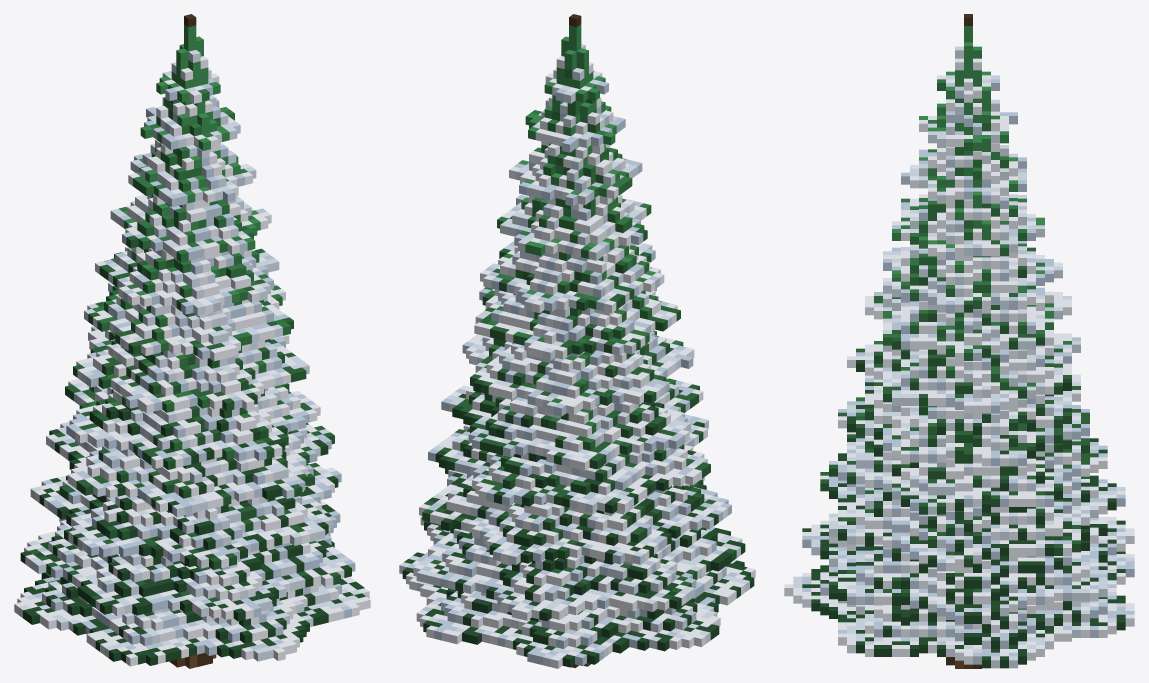
Rendered from arbre-sapin-enneige.glb.
3 views of the same model, side by side, from view 1: azimuth 30°, elevation 25°; view 2: azimuth 150°, elevation 25°; view 3: azimuth 270°, elevation 25° (orthographic).
Parts seen in each view (by area): view 1: arbre-sapin-enneige; view 2: arbre-sapin-enneige; view 3: arbre-sapin-enneige.
Part boxes in pixels (bbox=[...]): arbre-sapin-enneige: bbox=[14, 14, 370, 668]; arbre-sapin-enneige: bbox=[399, 14, 755, 668]; arbre-sapin-enneige: bbox=[784, 14, 1134, 668].
Bounding box in the file's own units: 4.88 × 9.88 × 4.88.
